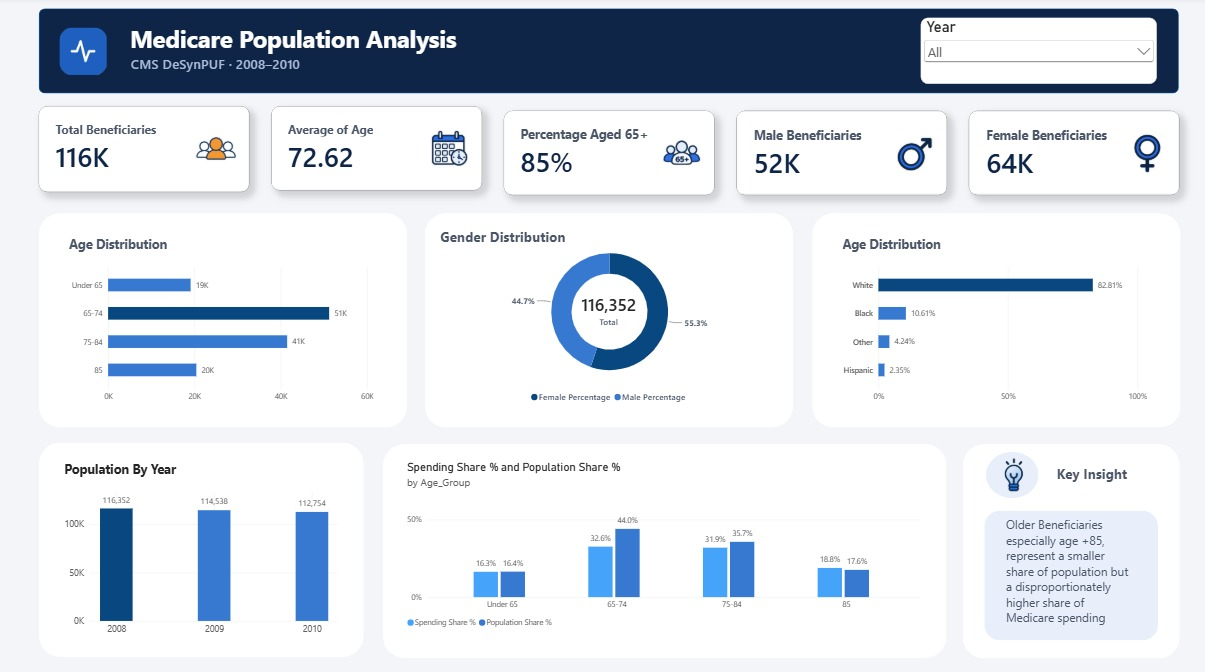

What the dashboard file says about the page in this screenshot:
{"tool":"powerbi","page":{"name":"Medicare Population Analysis","canvas":[1920,1080],"ordinal":3},"visuals":[{"type":"shape","box":[62.5,20,1810,135],"z":0},{"type":"textbox","box":[113,43,926.9,82.3],"z":1000},{"type":"image","box":[94,50,77.3,77.3],"z":2000},{"type":"cardVisual","title":"tgg","fields":{"Data":["Cleaned_Beneficiary_File.Total Beneficiaries"]},"box":[61.8,175.1,334.8,136.5],"z":3000},{"type":"cardVisual","title":"tgg","fields":{"Data":["Cleaned_Beneficiary_File.Male Beneficiaries"]},"box":[1169.4,182,335,134],"z":4000},{"type":"cardVisual","title":"tgg","fields":{"Data":["Cleaned_Beneficiary_File.Percentage Aged 65+"]},"box":[800.1,181.8,335,134],"z":5000},{"type":"slicer","fields":{"Values":["Cleaned_Beneficiary_File.Year"]},"box":[1462.5,35,375,105],"z":6000},{"type":"shape","box":[61.7,344.1,585,340.8],"z":7000},{"type":"cardVisual","title":"tgg","fields":{"Data":["Cleaned_Beneficiary_File.Female Beneficiaries"]},"box":[1538.6,182,335,134.3],"z":8000},{"type":"cardVisual","title":"tgg","fields":{"Data":["Avg(Cleaned_Beneficiary_File.Age)"]},"box":[430.9,175.3,335,134],"z":9000},{"type":"shape","box":[1288.7,344.1,585,340.8],"z":10000},{"type":"shape","box":[675.2,344.1,585,340.8],"z":11000},{"type":"shape","box":[61.7,707.6,516.1,340.8],"z":12000},{"type":"shape","box":[607,710.9,895,340],"z":13000},{"type":"shape","box":[1528.9,710.9,345,340.8],"z":14000},{"type":"barChart","title":"Age Distribution","fields":{"Category":["Cleaned_Beneficiary_File.Age_Group"],"Y":["Cleaned_Beneficiary_File.Total Beneficiaries"]},"box":[92.7,365.7,515.1,298.7],"z":15000},{"type":"donutChart","fields":{"Y":["Cleaned_Beneficiary_File.Female Percentage","Cleaned_Beneficiary_File.Male Percentage"]},"box":[708,366,518,300],"z":16000},{"type":"textbox","box":[698,366,246,54],"z":17000},{"type":"cardVisual","fields":{"Data":["Cleaned_Beneficiary_File.Total Beneficiaries"]},"box":[884,436,166,128],"z":18000},{"type":"barChart","title":"Age Distribution","fields":{"Category":["Cleaned_Beneficiary_File.Race"],"Y":["Cleaned_Beneficiary_File.Race Distribution %"]},"box":[1322,366,515.1,298.7],"z":19000},{"type":"clusteredColumnChart","title":"Population By Year","fields":{"Category":["Cleaned_Beneficiary_File.Year"],"Y":["Cleaned_Beneficiary_File.Total Beneficiaries"]},"box":[85,723.5,466.4,313],"z":20000},{"type":"clusteredColumnChart","fields":{"Category":["Cleaned_Beneficiary_File.Age_Group"],"Y":["Cleaned_Beneficiary_File.Spending Share %","Cleaned_Beneficiary_File.Population Share %"]},"box":[630.2,723.5,847.9,300.6],"z":21000},{"type":"shape","box":[1562,818,276,206],"z":22000},{"type":"textbox","box":[1598,826,204,190],"z":23000},{"type":"shape","box":[1566,724,84,74],"z":24000},{"type":"textbox","box":[1650,744,170,74],"z":25000},{"type":"image","box":[1567.1,731.4,84.3,58.6],"z":26000}]}

Visuals, with their boxes in screenshot pixels (x1, y1, x2, y2), scaled from the page's 1920x1080 canvas onto the 1205x672 screenshot:
shape: bbox=(39, 12, 1175, 96)
textbox: bbox=(71, 27, 653, 78)
image: bbox=(59, 31, 108, 79)
"tgg" cardVisual: bbox=(39, 109, 249, 194)
"tgg" cardVisual: bbox=(734, 113, 944, 197)
"tgg" cardVisual: bbox=(502, 113, 712, 196)
slicer - Cleaned_Beneficiary_File.Year: bbox=(918, 22, 1153, 87)
shape: bbox=(39, 214, 406, 426)
"tgg" cardVisual: bbox=(966, 113, 1176, 197)
"tgg" cardVisual: bbox=(270, 109, 481, 192)
shape: bbox=(809, 214, 1176, 426)
shape: bbox=(424, 214, 791, 426)
shape: bbox=(39, 440, 363, 652)
shape: bbox=(381, 442, 943, 654)
shape: bbox=(960, 442, 1176, 654)
"Age Distribution" barChart: bbox=(58, 228, 381, 413)
donutChart - Cleaned_Beneficiary_File.Female Percentage x Cleaned_Beneficiary_File.Male Percentage: bbox=(444, 228, 769, 414)
textbox: bbox=(438, 228, 592, 261)
cardVisual - Cleaned_Beneficiary_File.Total Beneficiaries: bbox=(555, 271, 659, 351)
"Age Distribution" barChart: bbox=(830, 228, 1153, 414)
"Population By Year" clusteredColumnChart: bbox=(53, 450, 346, 645)
clusteredColumnChart - Cleaned_Beneficiary_File.Age_Group x Cleaned_Beneficiary_File.Spending Share %: bbox=(396, 450, 928, 637)
shape: bbox=(980, 509, 1154, 637)
textbox: bbox=(1003, 514, 1131, 632)
shape: bbox=(983, 450, 1036, 497)
textbox: bbox=(1036, 463, 1142, 509)
image: bbox=(984, 455, 1036, 492)
